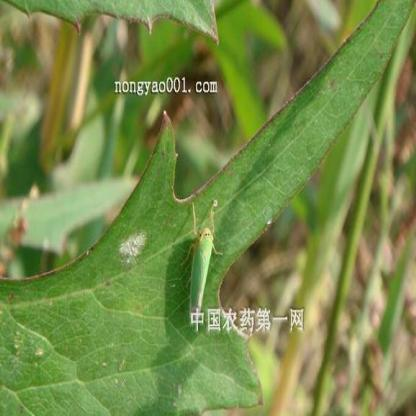Green-Leafhopper: (183, 201, 222, 324)
